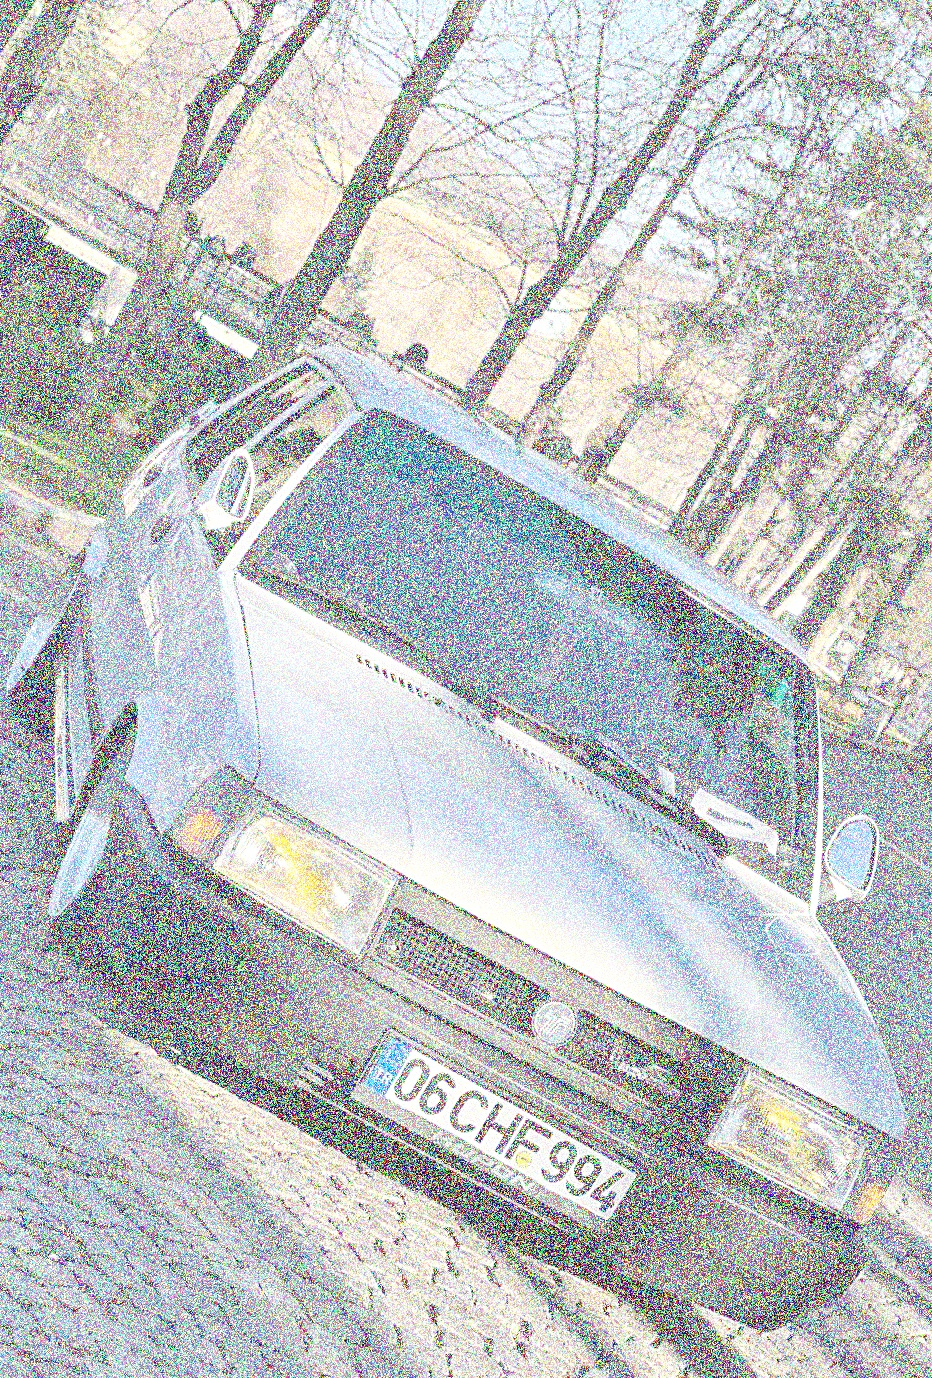plaka: (389, 1022, 627, 1222)
